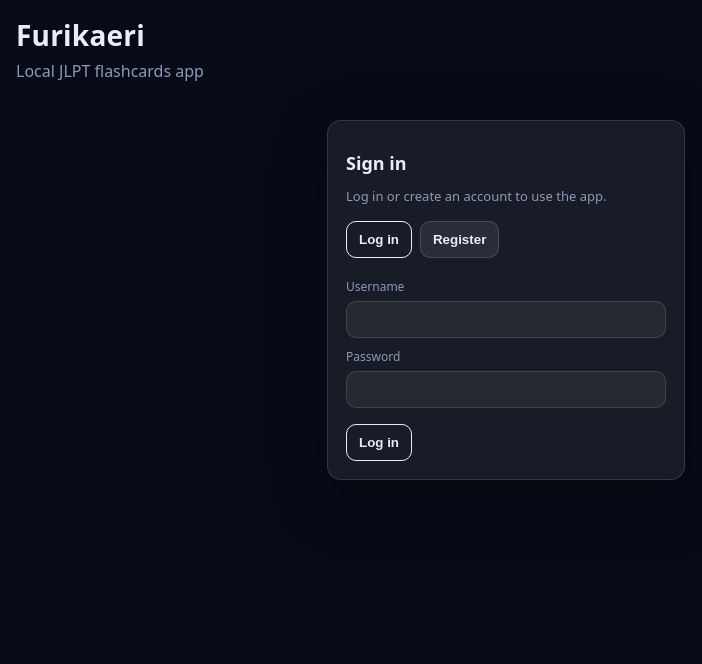
Test case: App › register mode shows Password and Confirm password fields
Expected: the text "Furikaeri" is shown, [16,16,145,54]
Click the button "Register" at (460, 240), box [420,221,499,258]
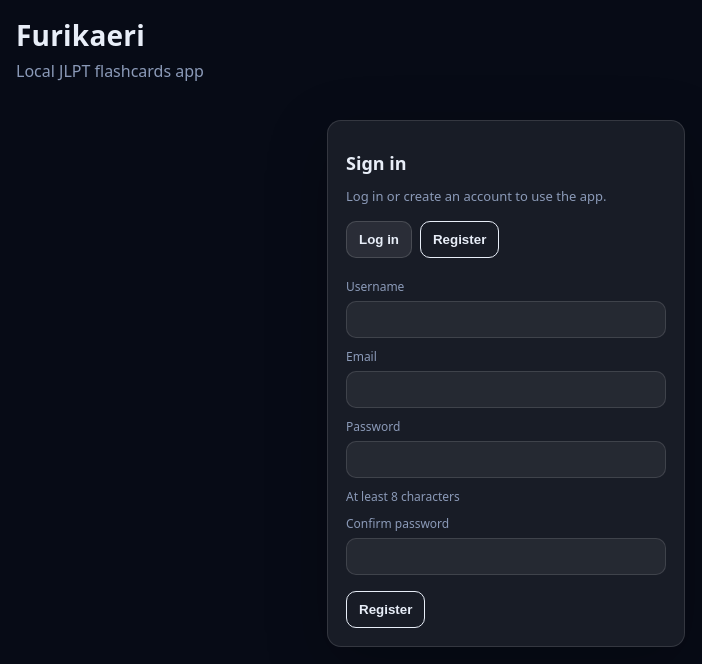
Expected: the password field labelled "Password" is shown, [346,441,666,478]
Expected: the password field labelled "Confirm password" is shown, [346,538,666,575]
